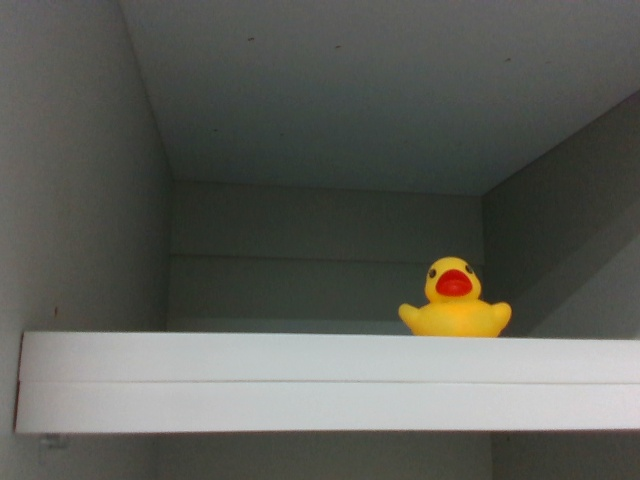duck: (396, 251, 516, 339)
